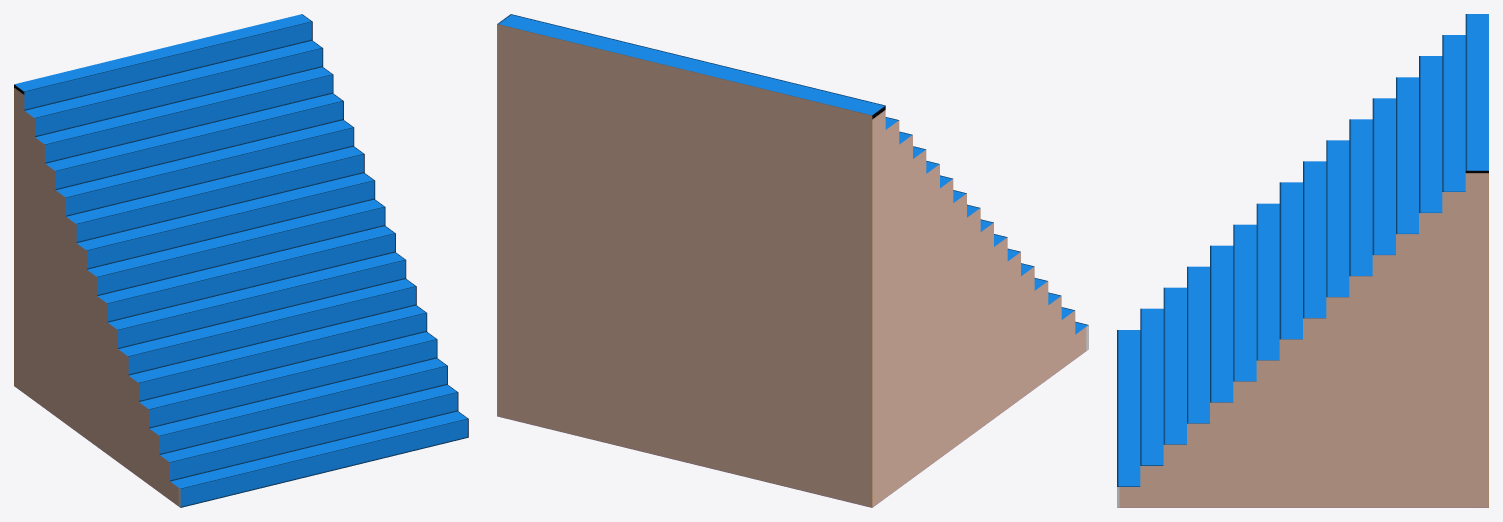
File: MK_Stairs_Trim_D_Wall_B.fbx
The picture shows the model from 3 angles, left to right: view 1: azimuth 30°, elevation 25°; view 2: azimuth 150°, elevation 25°; view 3: azimuth 270°, elevation 25°; orthographic projection. The views are drawn at different scales.
Parts seen in each view (by area): view 1: Stairs_Trim_D_Wall_B; view 2: Stairs_Trim_D_Wall_B; view 3: Stairs_Trim_D_Wall_B.
Boxes of the visible parts, left/top/right/bottom form: Stairs_Trim_D_Wall_B: left=14, top=14, right=468, bottom=507; Stairs_Trim_D_Wall_B: left=497, top=14, right=1088, bottom=507; Stairs_Trim_D_Wall_B: left=1117, top=14, right=1488, bottom=507.
Bounding box in the file's own units: 180 × 180 × 180.
Materials: 1 (1 with a texture image).
